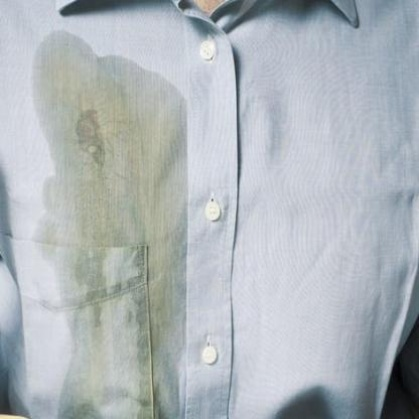coffee: (46, 73, 183, 251), (143, 255, 182, 415)
